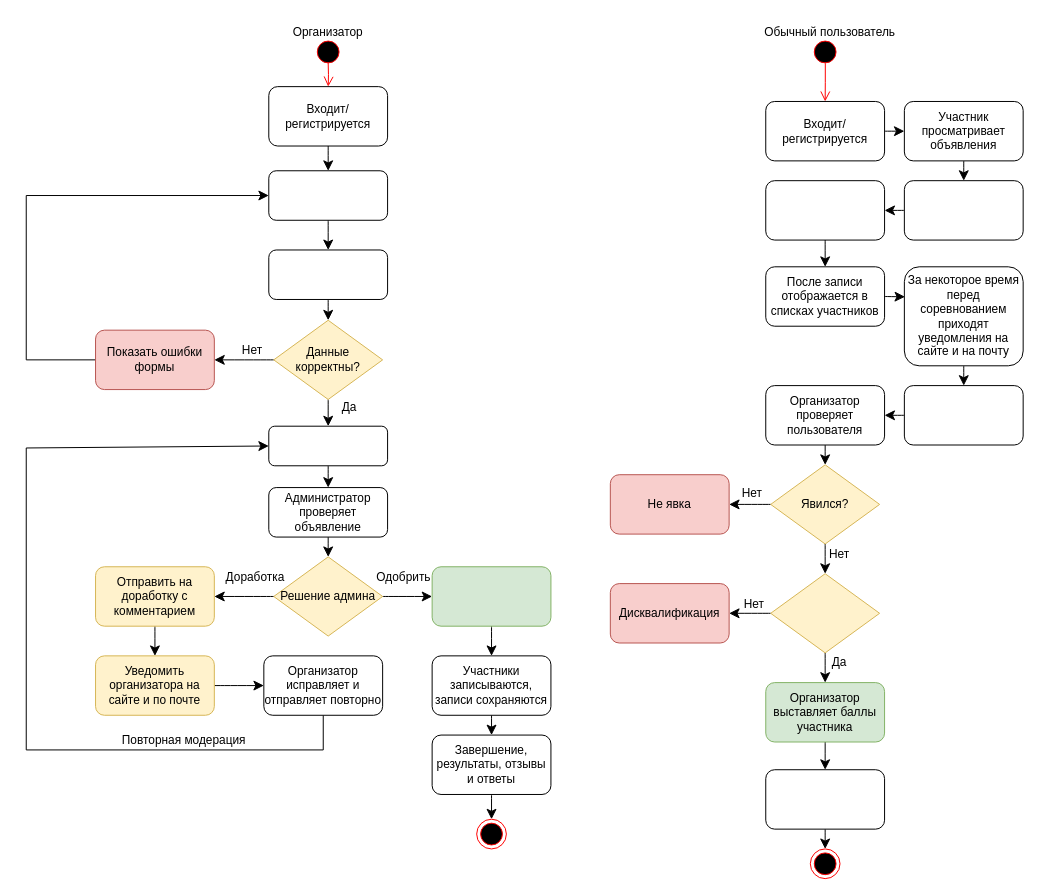
Image size: 1040x896. Some labels were removed from this diagram. Here are the shapes that lost their labels. From the top down, the centre of each, then its label:
At point (328, 195): "Организатор создает или редактирует объявление".
At point (825, 210): "Записывается".
At point (963, 210): "Находит интересующее объявление".
At point (328, 274): "Система валидирует данные и очищает ввод".
At point (963, 415): "Участвует в соревновании".
At point (328, 445): "Статус: на рассмотрении".
At point (491, 596): "Одобрить и опубликовать".
At point (825, 613): "Соблюдал правила?".
At point (825, 799): "Участнику присваивается место и приходит уведомление".
